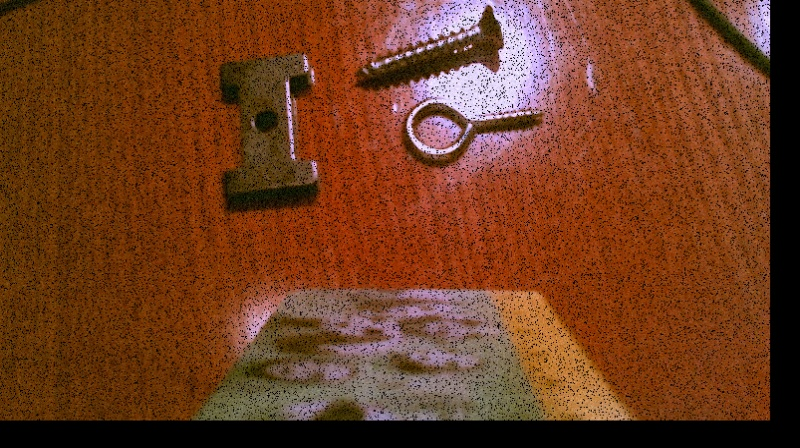O001: (399, 94, 551, 165)
O002: (214, 49, 326, 208)
S001: (349, 0, 514, 87)
